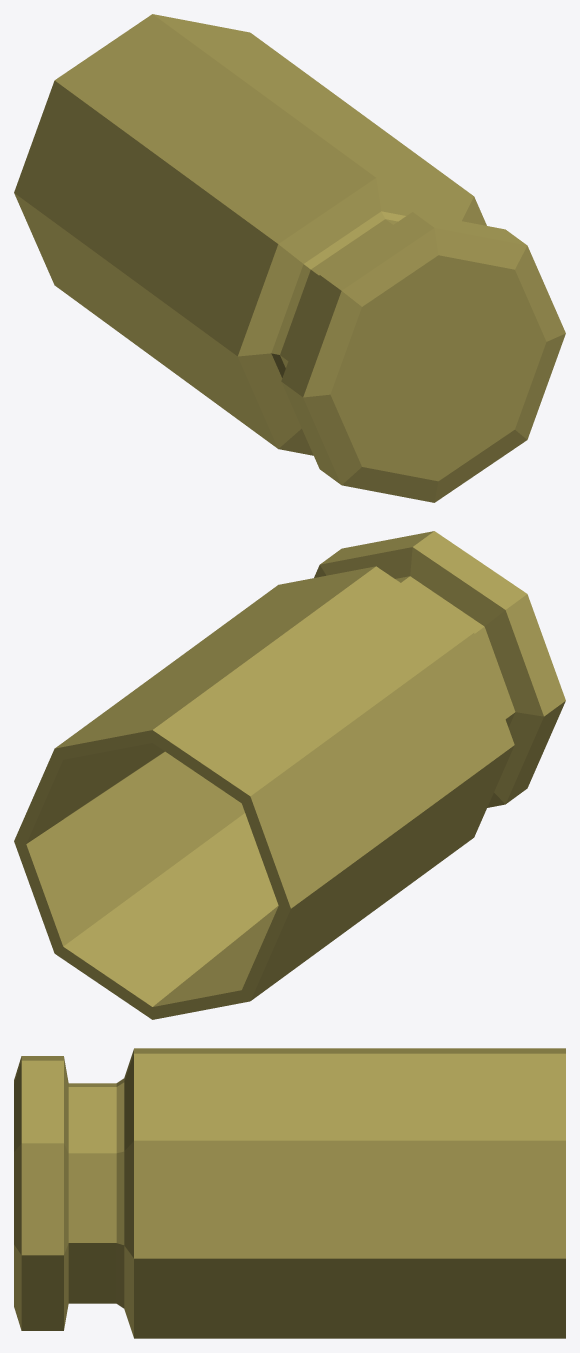
File: casing.glb
The picture shows the model from 3 angles, top to bottom: view 1: azimuth 30°, elevation 25°; view 2: azimuth 150°, elevation 25°; view 3: azimuth 270°, elevation 25°; orthographic projection. The views are drawn at different scales.
Parts seen in each view (by area): view 1: Node; view 2: Node; view 3: Node.
Part boxes in pixels (left/top/right/bottom): Node: left=14, top=14, right=565, bottom=502; Node: left=14, top=531, right=565, bottom=1019; Node: left=14, top=1048, right=565, bottom=1338.
Bounding box in the file's own units: 0.0101 × 0.0101 × 0.018.
